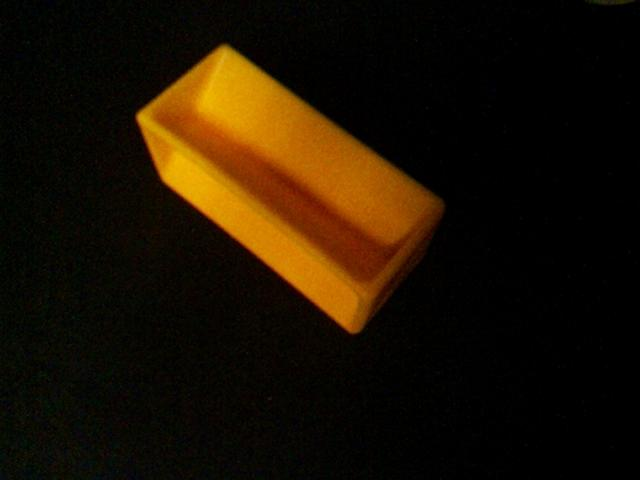yellow: (134, 42, 447, 336)
